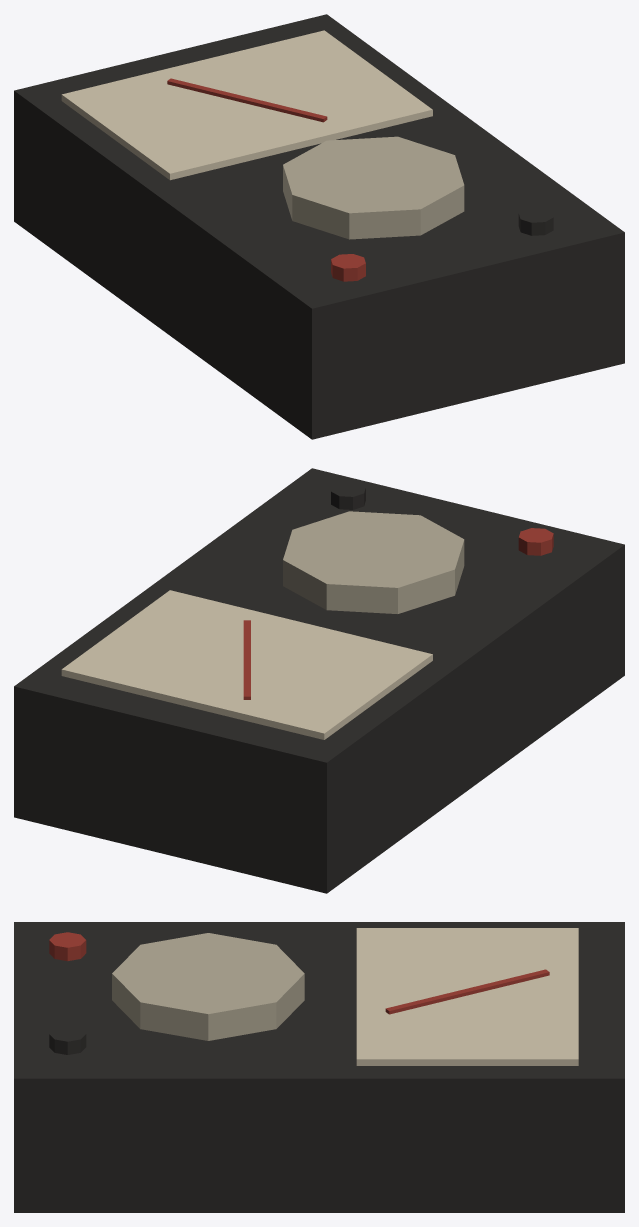
The model's file is analog-multimeter.glb.
3 views of the same model, one above another, from view 1: azimuth 30°, elevation 25°; view 2: azimuth 150°, elevation 25°; view 3: azimuth 270°, elevation 25° (orthographic). The views are drawn at different scales.
Parts seen in each view (by area): view 1: plastic-dark, paper, plastic-light, accent-warm; view 2: plastic-dark, paper, plastic-light, accent-warm; view 3: plastic-dark, paper, plastic-light, accent-warm.
Part boxes in pixels (x1,y1,x2,y2): plastic-dark: (14,14,624,439); paper: (61,30,432,180); plastic-light: (283,136,464,239); accent-warm: (167,78,365,281); plastic-dark: (14,468,624,893); paper: (61,590,432,739); plastic-light: (283,511,464,613); accent-warm: (243,528,553,699); plastic-dark: (14,922,624,1212); paper: (356,928,578,1065); plastic-light: (112,933,304,1040); accent-warm: (49,932,549,1014).
Bounding box in the file's own units: 0.1 × 0.048 × 0.165.
